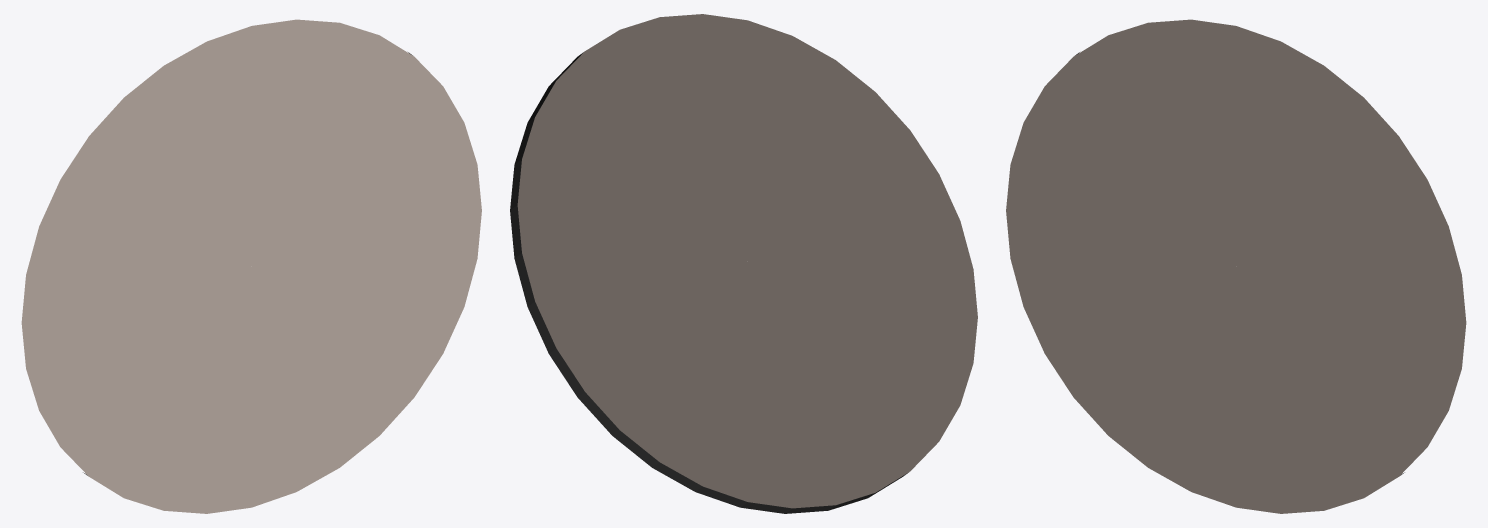
Rendered from portal.glb.
3 renders of one model, left to right at view 1: azimuth 30°, elevation 25°; view 2: azimuth 150°, elevation 25°; view 3: azimuth 330°, elevation 25°, orthographic.
Visible parts, largest first — view 1: Circle; view 2: Circle; view 3: Circle.
Part boxes in pixels (x1,y1,x2,y2): Circle: (21, 19, 481, 513); Circle: (510, 14, 977, 513); Circle: (1006, 19, 1466, 513).
Size of the model in its own units: 2 by 2 by 0.0572.
